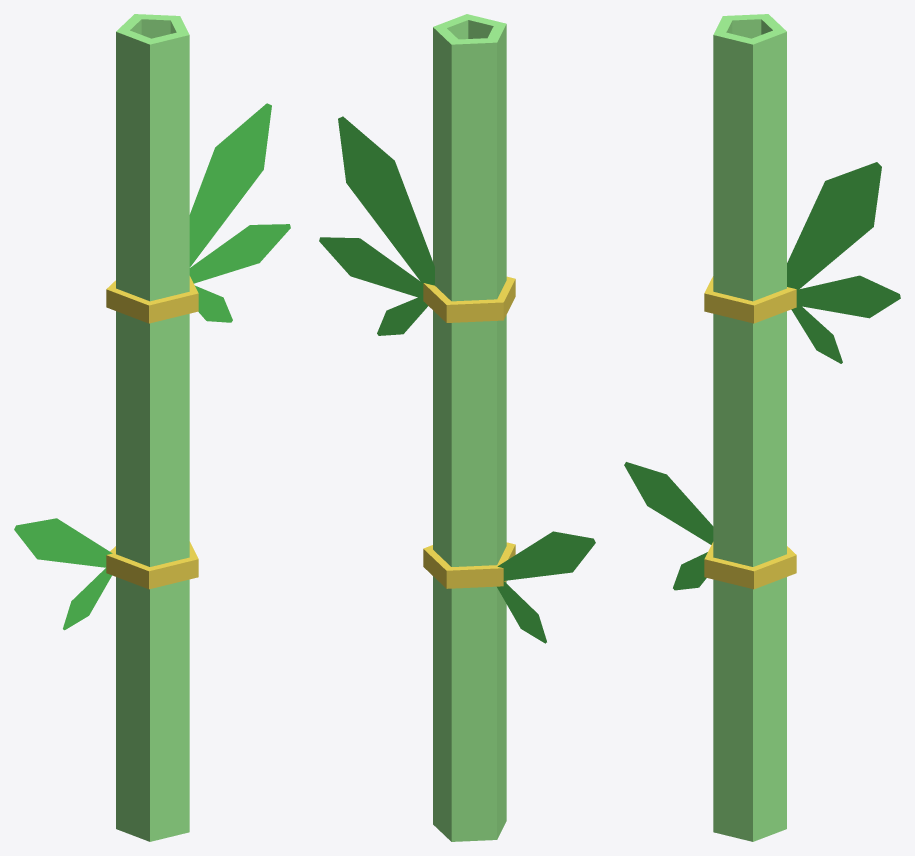
The model's file is Bamboo.fbx.
3 renders of one model, left to right at view 1: azimuth 30°, elevation 25°; view 2: azimuth 150°, elevation 25°; view 3: azimuth 330°, elevation 25°, orthographic.
Parts seen in each view (by area): view 1: Cylinder.026, Cylinder.031, Cylinder.027, Cylinder.029, Cylinder.028, Cylinder.030; view 2: Cylinder.026, Cylinder.031, Cylinder.029, Cylinder.027, Cylinder.028, Cylinder.030; view 3: Cylinder.026, Cylinder.031, Cylinder.029, Cylinder.027, Cylinder.030, Cylinder.028.
Part boxes in pixels (x1,y1,x2,y2): Cylinder.026: (106,14,198,841); Cylinder.031: (189,103,271,267); Cylinder.027: (14,518,112,567); Cylinder.029: (189,224,290,283); Cylinder.028: (63,568,111,630); Cylinder.030: (195,285,232,322); Cylinder.026: (423,14,515,841); Cylinder.031: (338,116,434,285); Cylinder.029: (319,237,423,298); Cylinder.027: (497,531,595,580); Cylinder.028: (497,581,546,643); Cylinder.030: (377,295,427,335); Cylinder.026: (704,14,796,841); Cylinder.031: (787,162,881,289); Cylinder.029: (796,275,900,318); Cylinder.027: (624,462,713,544); Cylinder.030: (791,305,842,363); Cylinder.028: (673,552,707,590).
Bounding box in the file's own units: 19.7 × 54.22 × 5.45.
